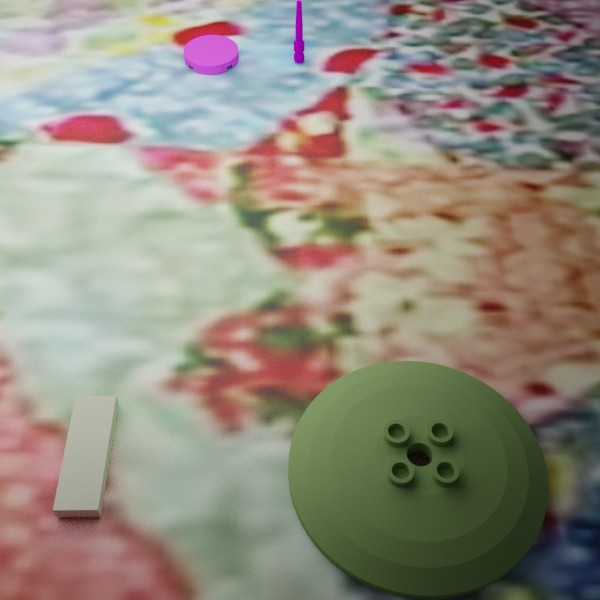lego: (288, 360, 548, 600), (52, 395, 118, 517), (183, 34, 238, 74), (293, 0, 304, 62)
